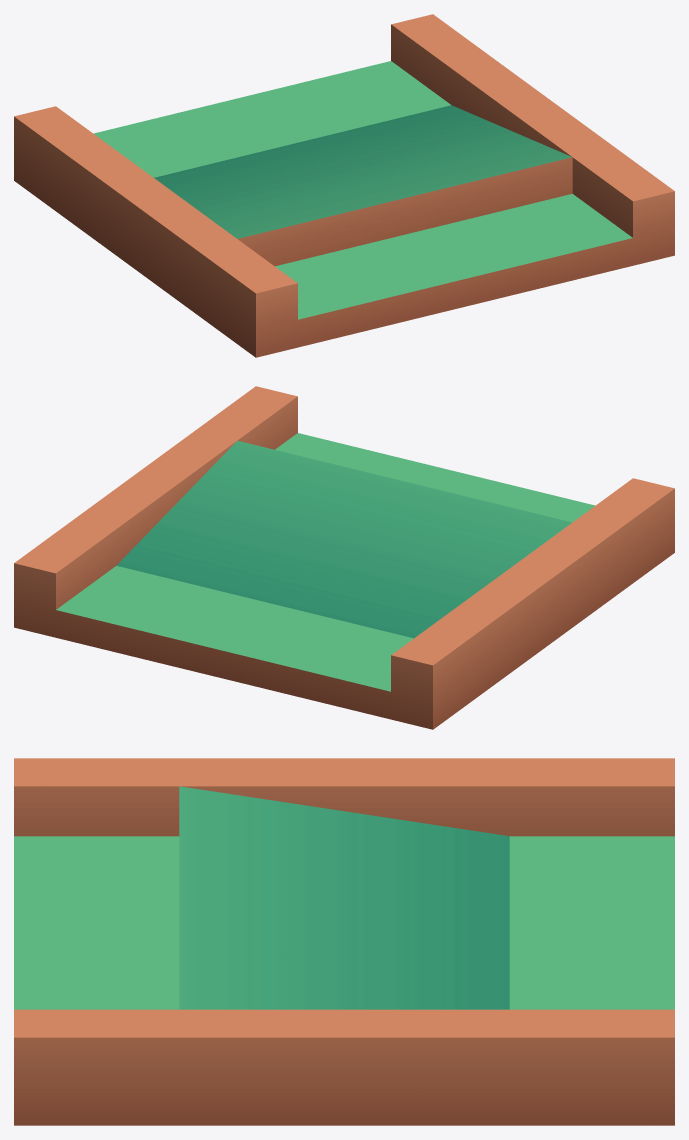
Rendered from ramp-sharp.glb.
The picture shows the model from 3 angles, top to bottom: view 1: azimuth 30°, elevation 25°; view 2: azimuth 150°, elevation 25°; view 3: azimuth 270°, elevation 25°; orthographic projection. The views are drawn at different scales.
Parts seen in each view (by area): view 1: ramp-sharp; view 2: ramp-sharp; view 3: ramp-sharp.
Boxes of the visible parts, <box> form: ramp-sharp: <box>14,14,674,357</box>; ramp-sharp: <box>14,386,674,729</box>; ramp-sharp: <box>14,758,674,1125</box>.
Size of the model in its own units: 0.9999 by 0.1467 by 0.9999.
1 material, 1 textured.
